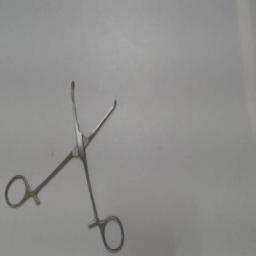Allis Tissue Forceps: (2, 76, 126, 256)
